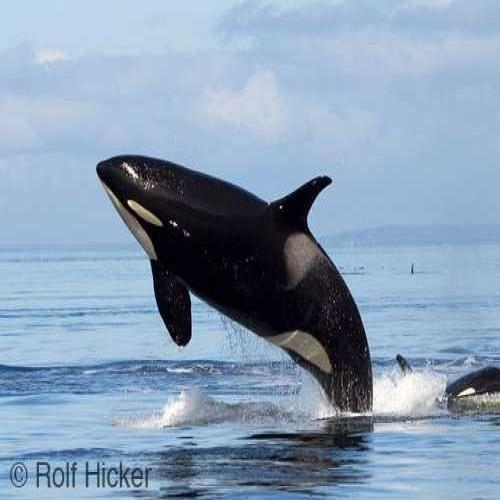killer_whale-endangered: (94, 138, 392, 443)
